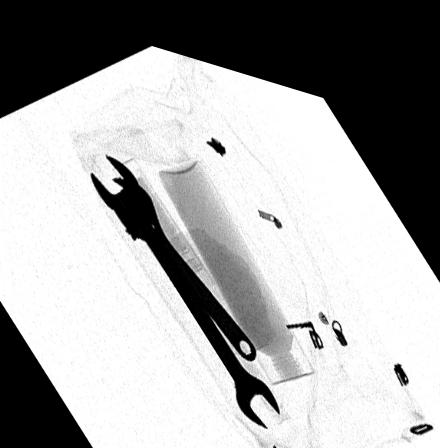Wrench: (88, 151, 286, 412), (100, 163, 255, 346)
